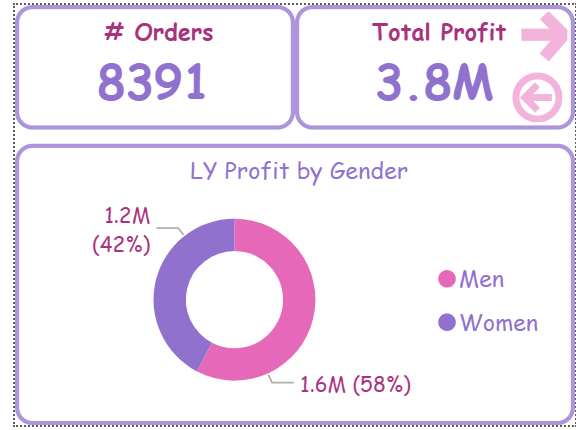

The dashboard page shown, as its layout file describes it:
{"tool":"powerbi","page":{"name":"ToolTip Page","canvas":[320,240],"ordinal":8},"visuals":[{"type":"card","title":"# Orders","fields":{"Values":["Calculations.# Orders"]},"box":[0,0,160,71],"z":0},{"type":"card","title":"Total Profit","fields":{"Values":["Calculations.Total Profit"]},"box":[160,0,160,71],"z":1000},{"type":"donutChart","title":"LY Profit by Gender","fields":{"Category":["Unique Products.Product_Gender"],"Y":["Calculations.LY Profit"]},"box":[0,79,320,161],"z":2000},{"type":"actionButton","box":[282.9,0,37.1,35.7],"z":3000},{"type":"actionButton","box":[280,34.3,40,37.1],"z":4000}]}

Visuals, with their boxes in screenshot pixels (x1, y1, x2, y2), scaled from the page's 320x240 canvas onto the 576x430 screenshot:
"# Orders" card: <bbox>0, 0, 288, 127</bbox>
"Total Profit" card: <bbox>288, 0, 575, 127</bbox>
"LY Profit by Gender" donutChart: <bbox>0, 142, 575, 429</bbox>
actionButton: <bbox>509, 0, 575, 64</bbox>
actionButton: <bbox>504, 61, 575, 128</bbox>
